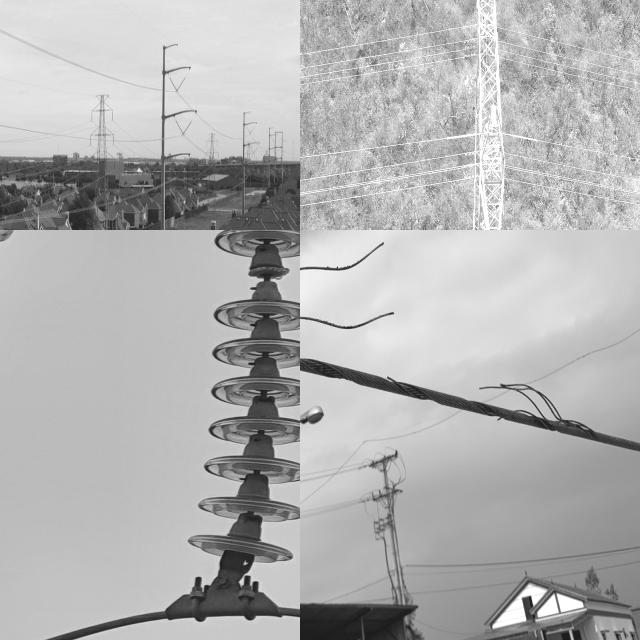杆塔: (445, 0, 527, 230), (84, 85, 119, 230)
正常绝缘子: (192, 230, 300, 585), (173, 71, 191, 99), (179, 115, 196, 141), (167, 70, 180, 95), (172, 116, 186, 139)
电缆破损: (300, 233, 600, 452)
绝缘子破损: (248, 254, 290, 292)
